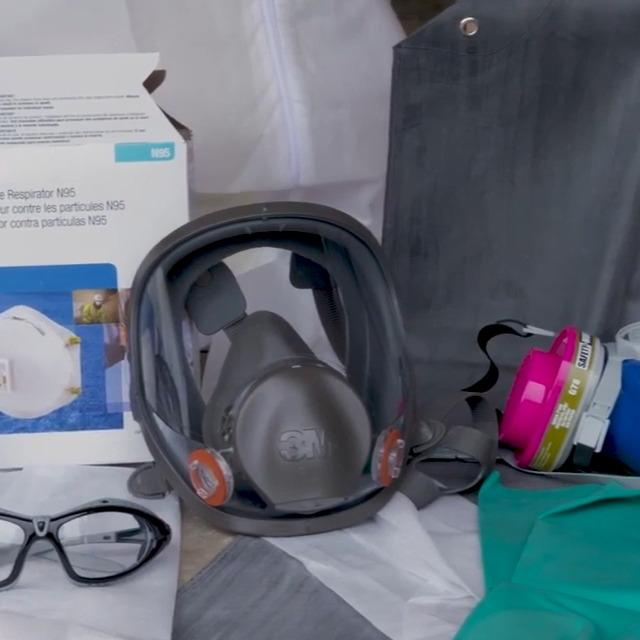Gloves: (517, 446, 640, 638), (475, 462, 603, 597), (417, 592, 640, 640)
Mask: (118, 205, 422, 534), (417, 283, 640, 499)
